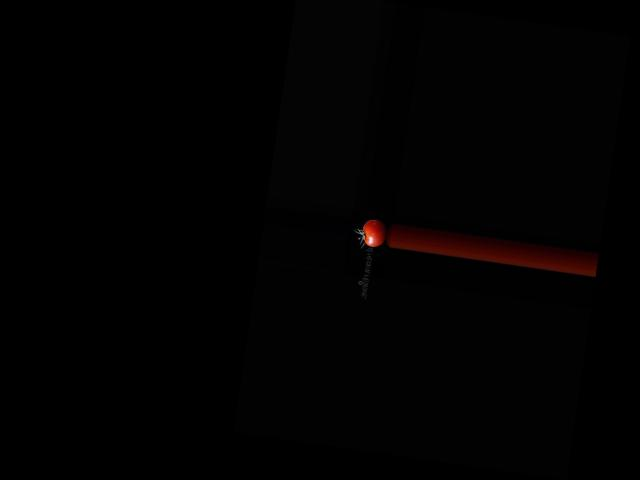tomato: (360, 218, 387, 248)
